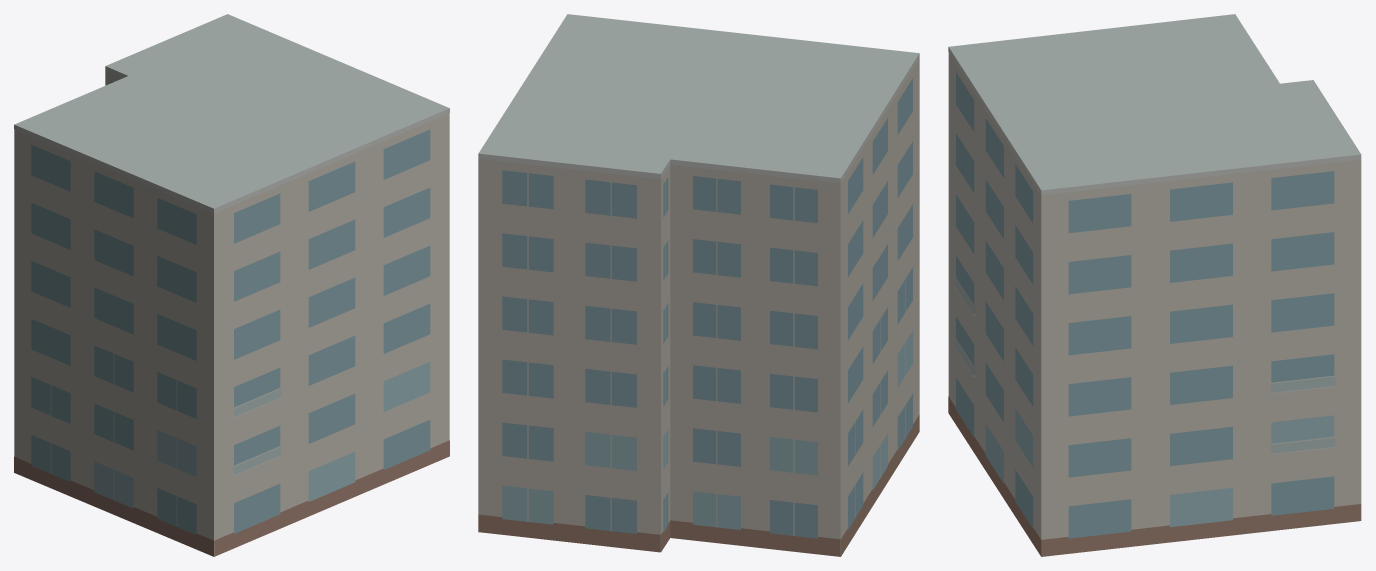
Rendered from survey-upis-32562639.glb.
3 views of the same model, side by side, from view 1: azimuth 30°, elevation 25°; view 2: azimuth 150°, elevation 25°; view 3: azimuth 270°, elevation 25° (orthographic). The views are drawn at different scales.
Parts seen in each view (by area): view 1: survey-upis-32562639.tmp; view 2: survey-upis-32562639.tmp; view 3: survey-upis-32562639.tmp.
Boxes of the visible parts, x1,y1,x2,y2 form: survey-upis-32562639.tmp: [14, 14, 449, 556]; survey-upis-32562639.tmp: [478, 14, 919, 556]; survey-upis-32562639.tmp: [948, 14, 1361, 556].
Bounding box in the file's own units: 18.08 × 17.5 × 17.88.
